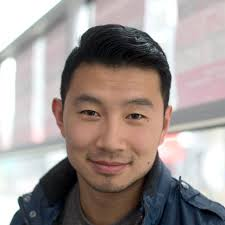asian_male: (47, 23, 175, 200)
